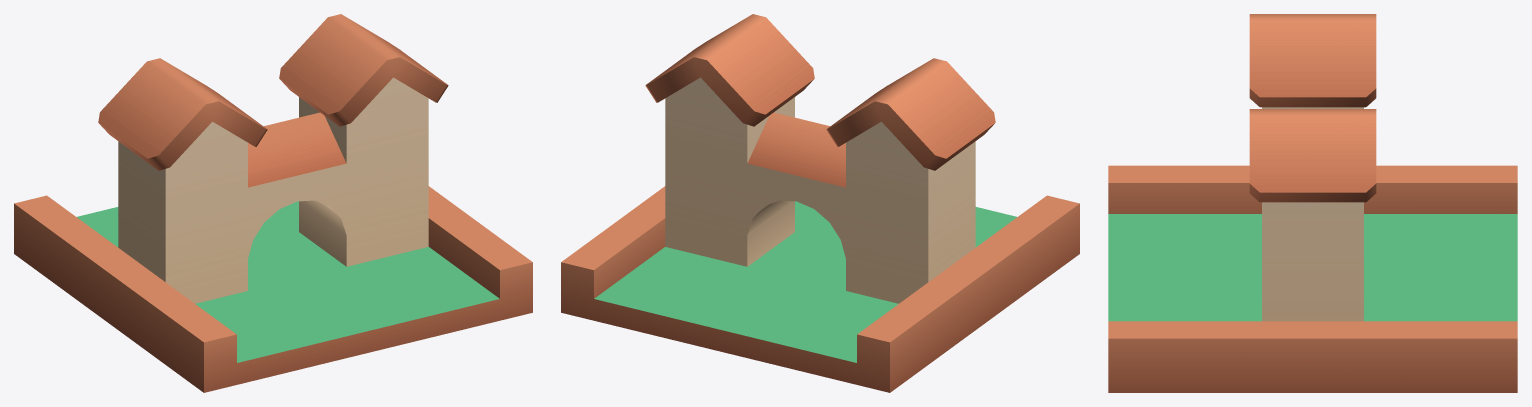
The model's file is castle.glb.
3 renders of one model, left to right at view 1: azimuth 30°, elevation 25°; view 2: azimuth 150°, elevation 25°; view 3: azimuth 270°, elevation 25°, orthographic. The views are drawn at different scales.
Parts seen in each view (by area): view 1: castle; view 2: castle; view 3: castle.
Boxes of the visible parts, x1=… form: castle: x1=14, y1=14, x2=532, y2=392; castle: x1=561, y1=14, x2=1079, y2=392; castle: x1=1108, y1=14, x2=1517, y2=392.
Size of the model in its own units: 0.9999 by 0.651 by 0.9999.
Materials: 1 (1 with a texture image).
